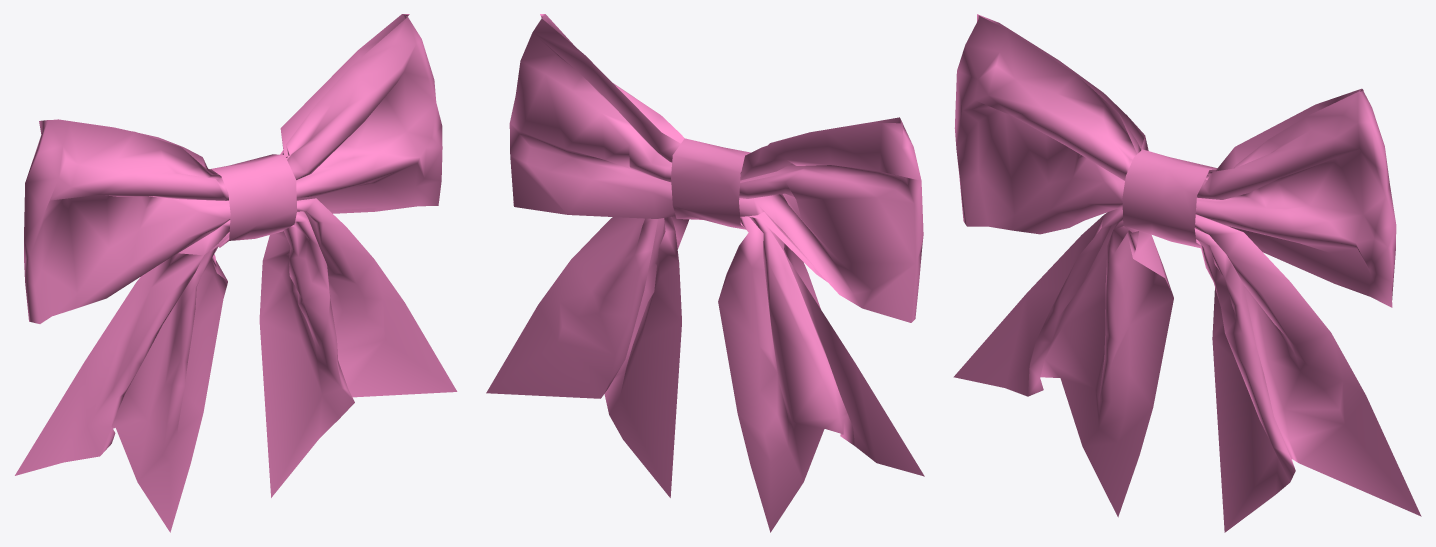
Rendered from rubban.glb.
3 renders of one model, left to right at view 1: azimuth 30°, elevation 25°; view 2: azimuth 150°, elevation 25°; view 3: azimuth 330°, elevation 25°, orthographic. The views are drawn at different scales.
Parts seen in each view (by area): view 1: Bow__0.001; view 2: Bow__0.001; view 3: Bow__0.001.
Boxes of the visible parts, x1,y1,x2,y2 form: Bow__0.001: (15,14,457,532); Bow__0.001: (486,14,924,532); Bow__0.001: (953,14,1421,532).
Size of the model in its own units: 0.4432 by 0.4433 by 0.0497.
